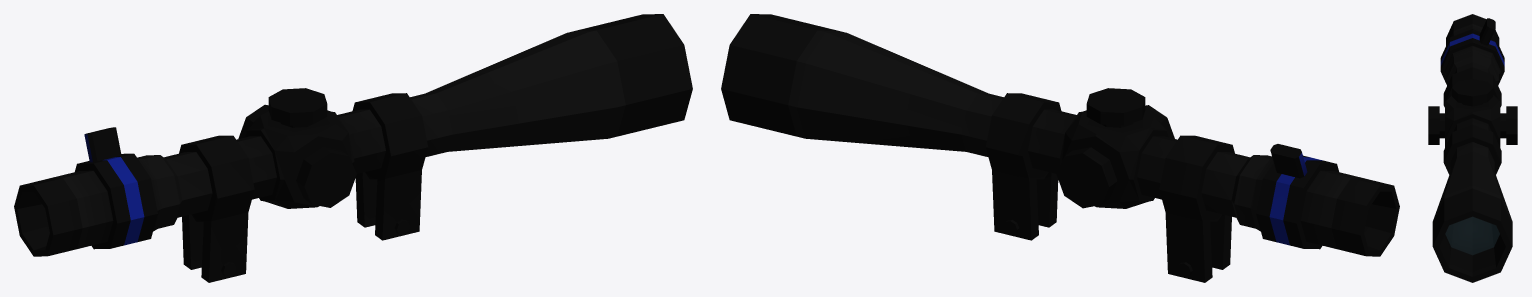
The model's file is k-att-scope-west.glb.
3 renders of one model, left to right at view 1: azimuth 30°, elevation 25°; view 2: azimuth 150°, elevation 25°; view 3: azimuth 270°, elevation 25°, orthographic. The views are drawn at different scales.
Visible parts, largest first — view 1: kit (×4); view 2: kit (×4); view 3: kit (×4), lens.
Boxes of the visible parts, <box> form: kit (×4): <box>14,14,692,282</box>; kit (×4): <box>721,14,1399,282</box>; kit (×4): <box>1428,14,1517,282</box>; lens: <box>1445,216,1499,255</box>.
Size of the model in its own units: 0.3581 by 0.0843 by 0.0648.
